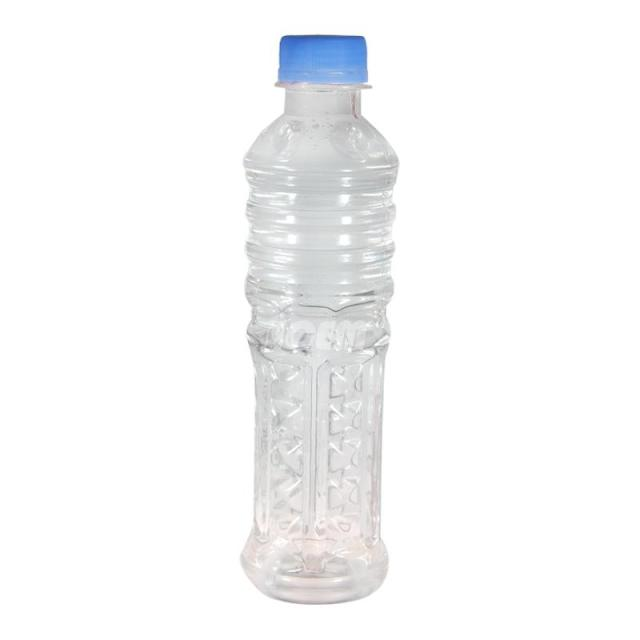bottle: (232, 23, 400, 612)
